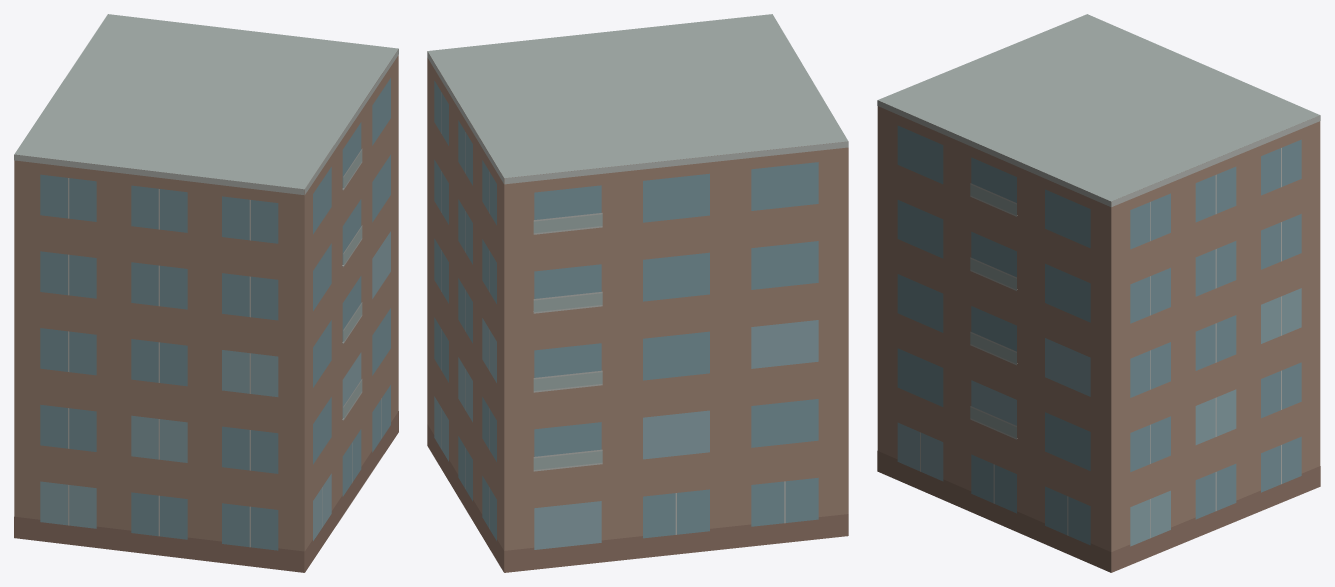
Rendered from survey-upis-32597807.glb.
3 renders of one model, left to right at view 1: azimuth 30°, elevation 25°; view 2: azimuth 150°, elevation 25°; view 3: azimuth 270°, elevation 25°, orthographic. The views are drawn at different scales.
Parts seen in each view (by area): view 1: survey-upis-32597807.tmp; view 2: survey-upis-32597807.tmp; view 3: survey-upis-32597807.tmp.
Boxes of the visible parts, <box> form: survey-upis-32597807.tmp: <box>14,14,398,572</box>; survey-upis-32597807.tmp: <box>427,14,848,572</box>; survey-upis-32597807.tmp: <box>877,14,1320,572</box>.
Bounding box in the file's own units: 17.07 × 15.75 × 17.04.
